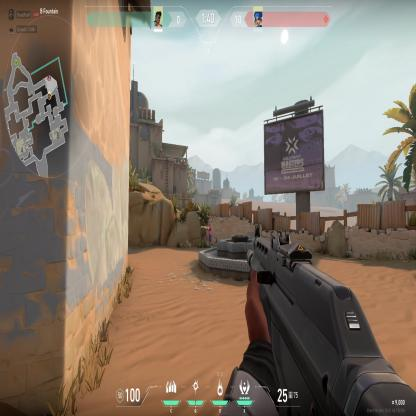enemy: (203, 221, 214, 249)
